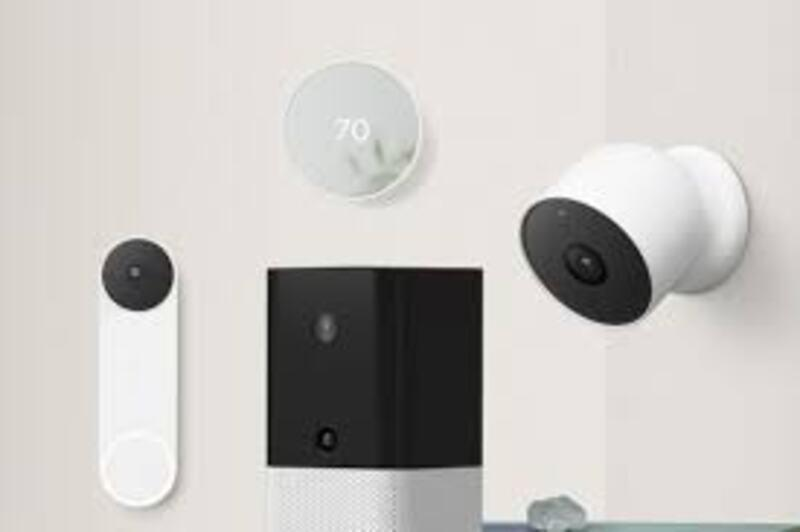doorbell: (93, 229, 187, 524)
nest: (518, 136, 706, 327)
